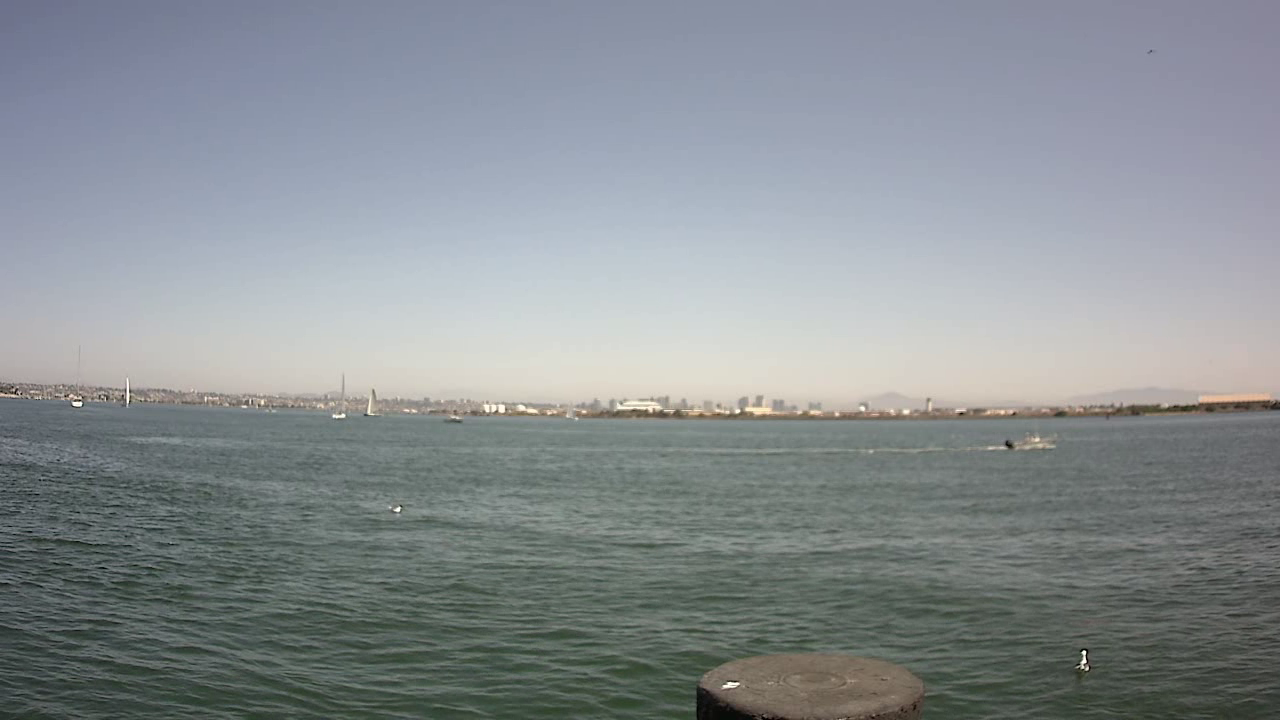target: (996, 418, 1065, 456)
